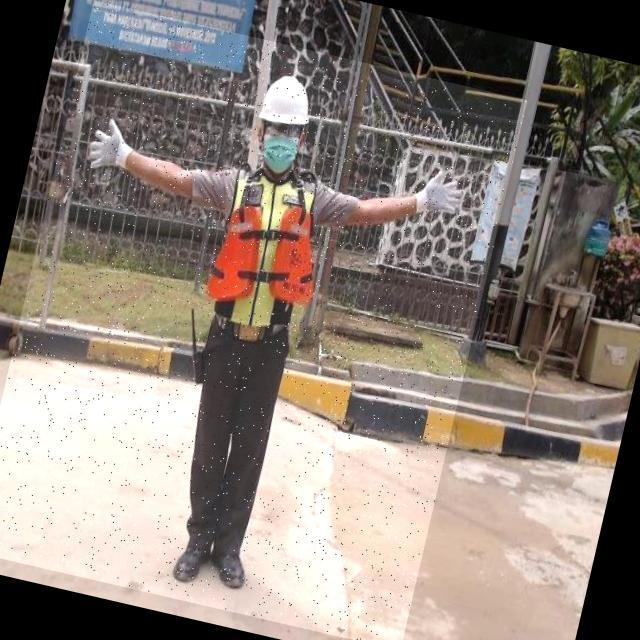Gloves: (413, 160, 472, 232), (85, 109, 140, 179)
Helmet: (256, 70, 322, 130)
Person: (72, 52, 478, 612)
Safety Boot: (207, 532, 258, 597), (170, 525, 218, 590)
Safety Vest: (200, 163, 335, 338)
